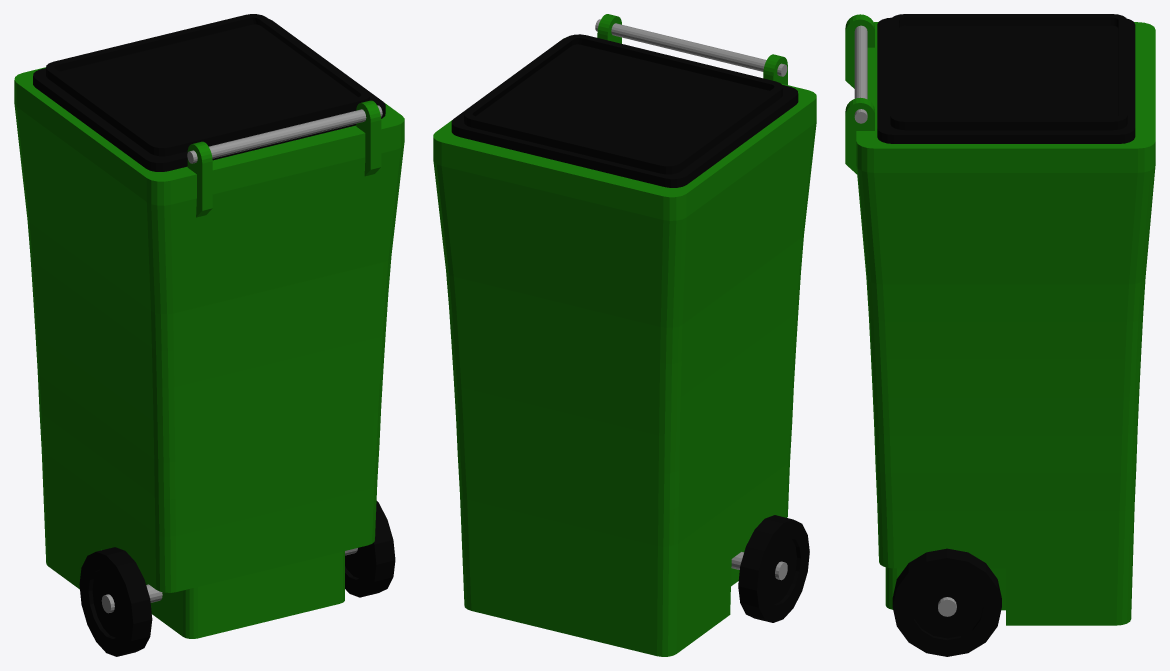
The model's file is trashcan2.gltf.
The picture shows the model from 3 angles, left to right: view 1: azimuth 30°, elevation 25°; view 2: azimuth 150°, elevation 25°; view 3: azimuth 270°, elevation 25°; orthographic projection. The views are drawn at different scales.
Parts seen in each view (by area): view 1: Cube.027; view 2: Cube.027; view 3: Cube.027.
Part boxes in pixels (x1,y1,x2,y2): Cube.027: (14, 14, 404, 656); Cube.027: (433, 14, 816, 656); Cube.027: (845, 14, 1155, 656).
Size of the model in its own units: 0.692 by 1.32 by 0.6949.
